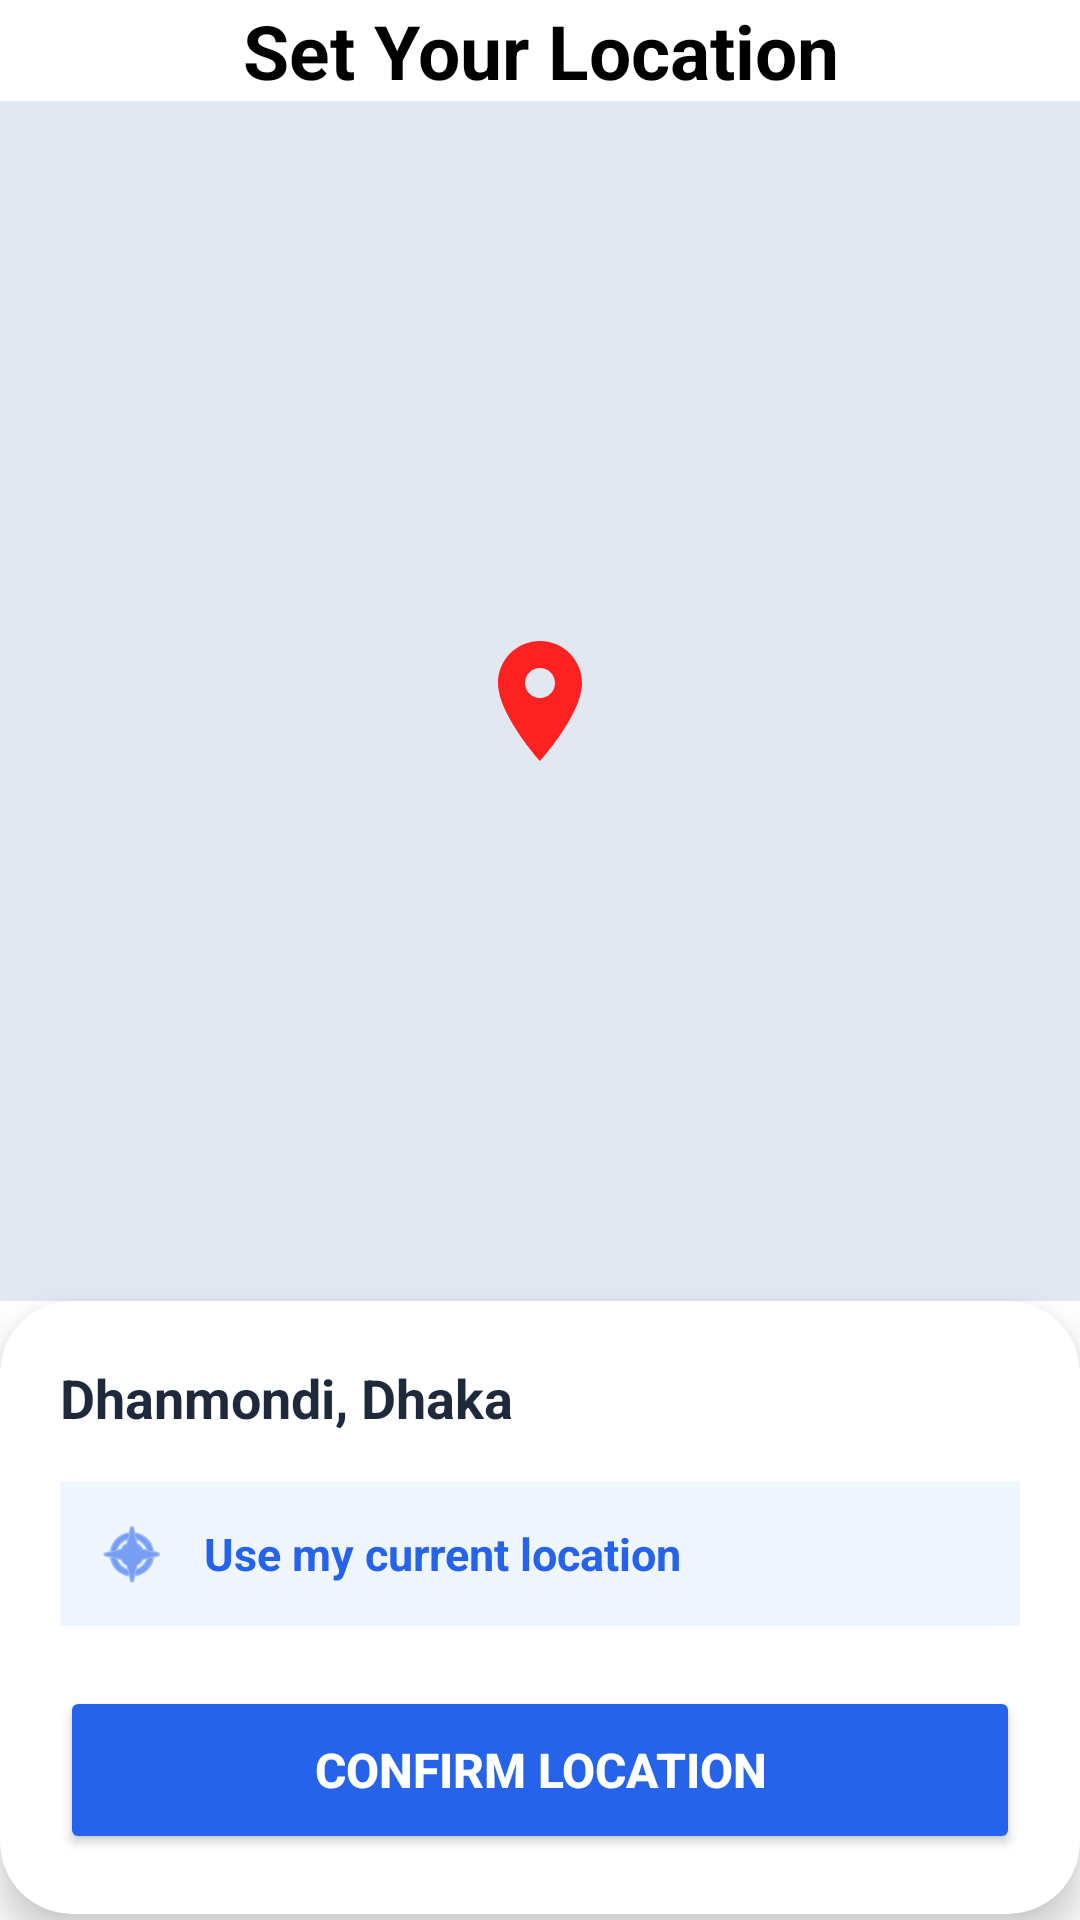

Icons on this 1080w x 1920h Android screen, each with its box as {"x1": x1, "y1": y1, "x2": x2, "y2": y2}:
location: {"x1": 498, "y1": 641, "x2": 582, "y2": 761}
